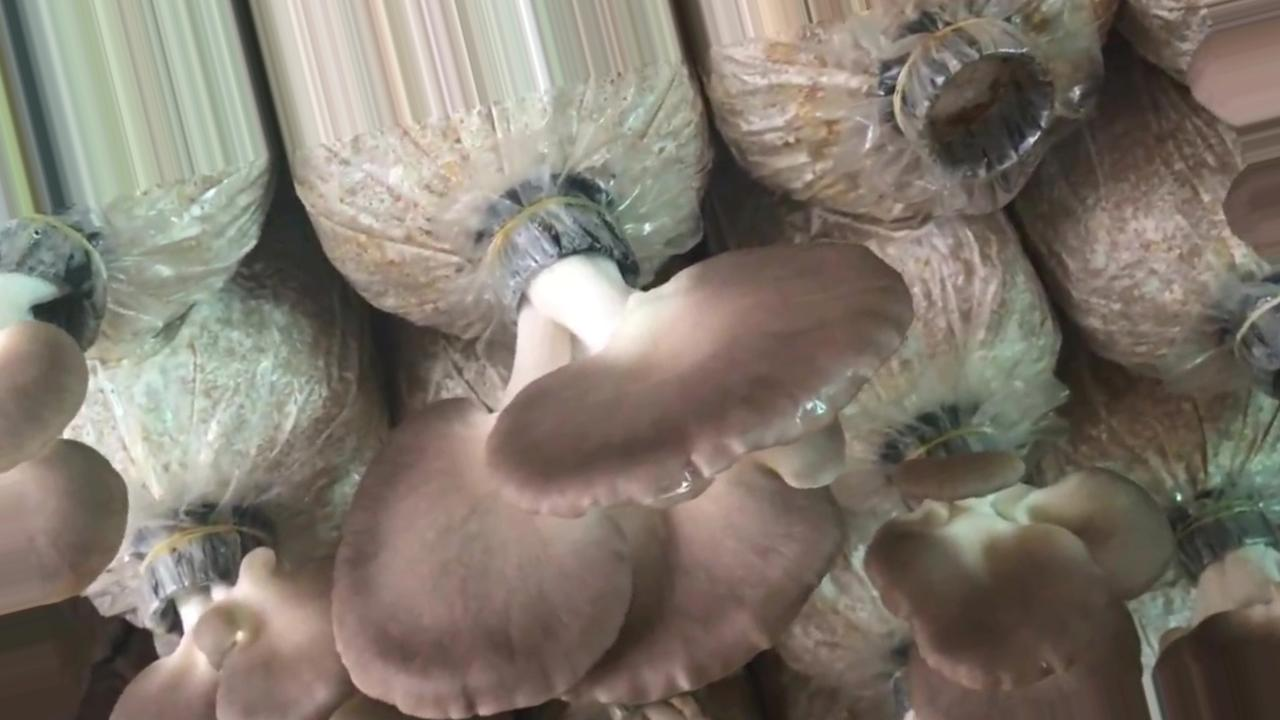nam: (331, 195, 913, 720), (867, 423, 1168, 690), (1, 217, 130, 610), (115, 524, 359, 719), (1153, 516, 1280, 718), (1188, 1, 1280, 268)
